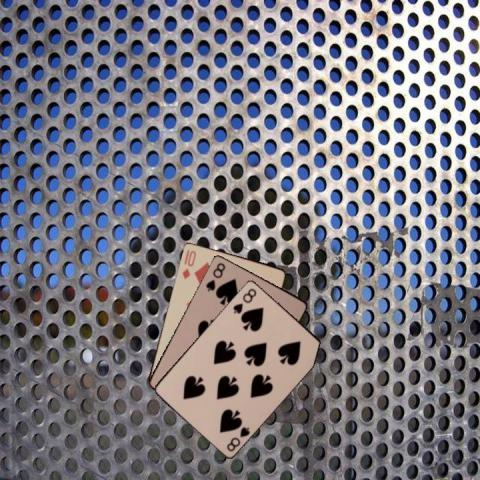10d: (180, 247, 198, 280)
8s: (202, 259, 227, 293), (230, 285, 258, 315), (224, 423, 252, 453)
